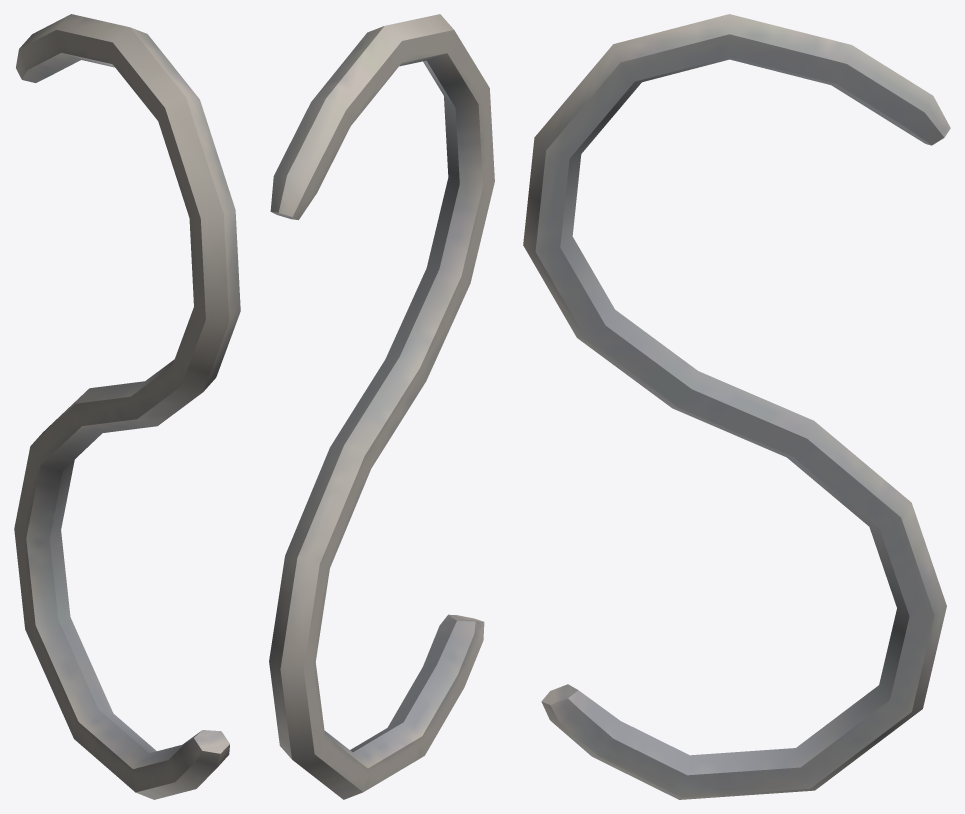
The model's file is SM_Utensil_09.glb.
The picture shows the model from 3 angles, left to right: view 1: azimuth 30°, elevation 25°; view 2: azimuth 150°, elevation 25°; view 3: azimuth 270°, elevation 25°; orthographic projection. The views are drawn at different scales.
Visible parts, largest first — view 1: SM_Utensil_09; view 2: SM_Utensil_09; view 3: SM_Utensil_09.
Part boxes in pixels (x1,y1,x2,y2): SM_Utensil_09: (14, 14, 240, 799); SM_Utensil_09: (269, 14, 494, 799); SM_Utensil_09: (523, 14, 950, 799).
Bounding box in the file's own units: 0.0027 × 0.0559 × 0.0276.
1 material, 1 textured.
